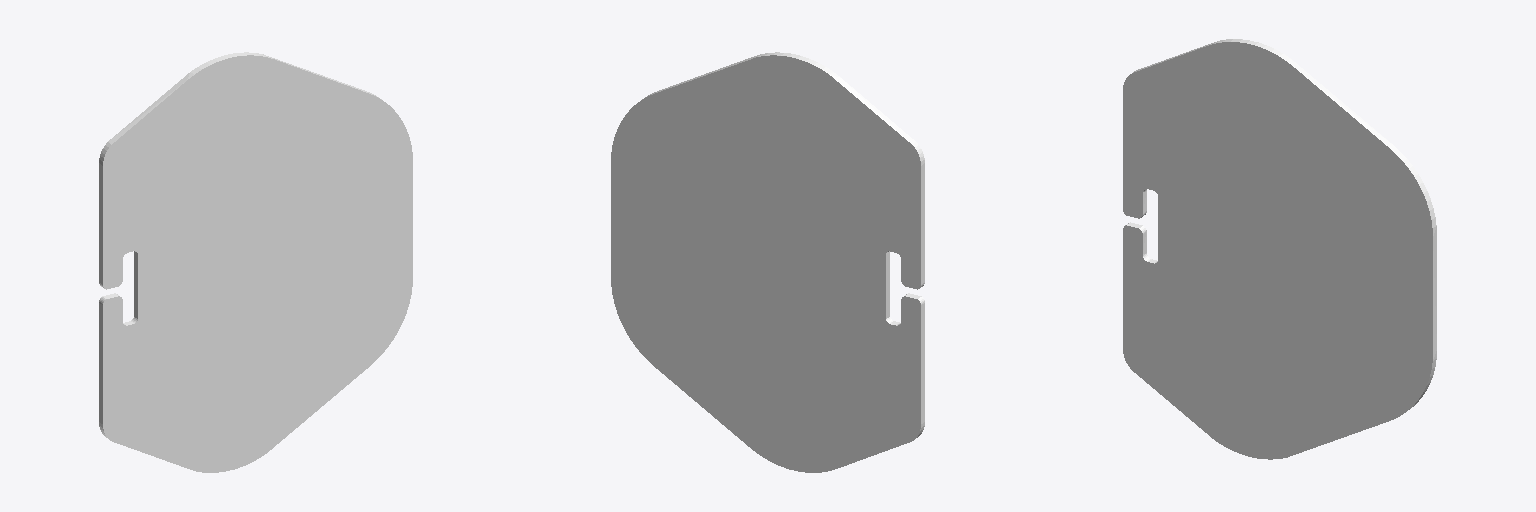
File: plate_bottom.obj
3 renders of one model, left to right at view 1: azimuth 30°, elevation 25°; view 2: azimuth 150°, elevation 25°; view 3: azimuth 330°, elevation 25°, orthographic.
Bounding box in the file's own units: 0.2673 × 0.3398 × 0.006.